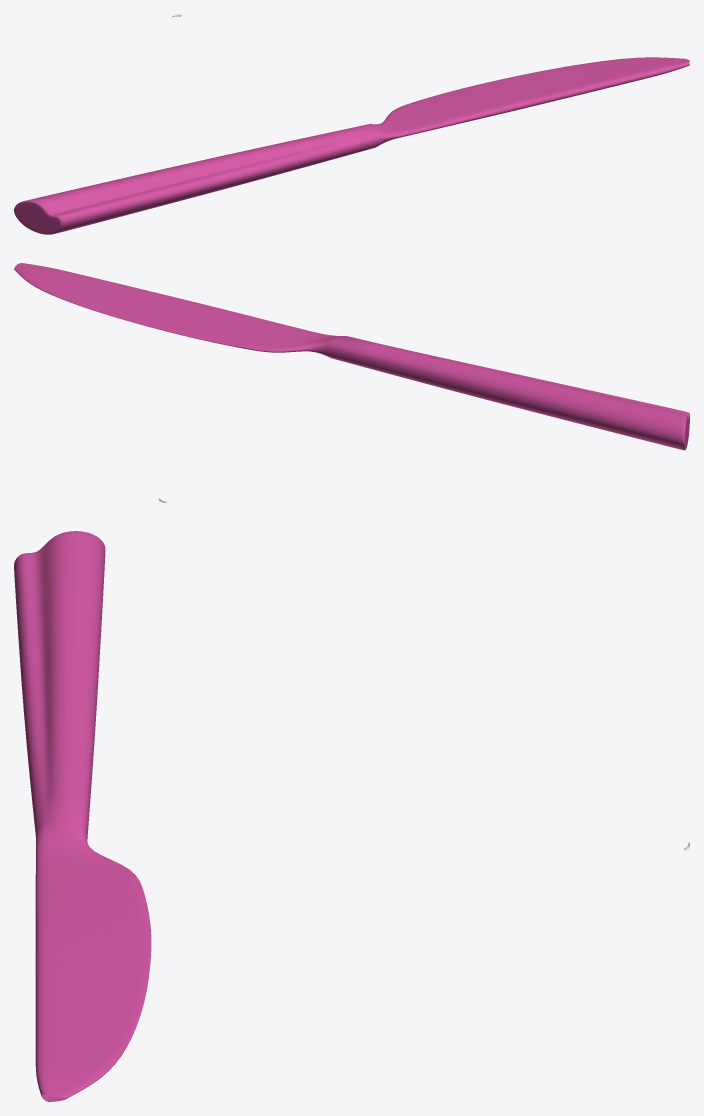
File: knife_red_plastic.dae
3 views of the same model, one above another, from view 1: azimuth 30°, elevation 25°; view 2: azimuth 150°, elevation 25°; view 3: azimuth 270°, elevation 25° (orthographic). The views are drawn at different scales.
Parts seen in each view (by area): view 1: group_0; view 2: group_0; view 3: group_0.
Part boxes in pixels (x1,y1,x2,y2): group_0: (14, 57, 689, 234); group_0: (14, 263, 689, 450); group_0: (14, 531, 151, 1101).
Size of the model in its own units: 0.2281 by 0.1188 by 0.01.
